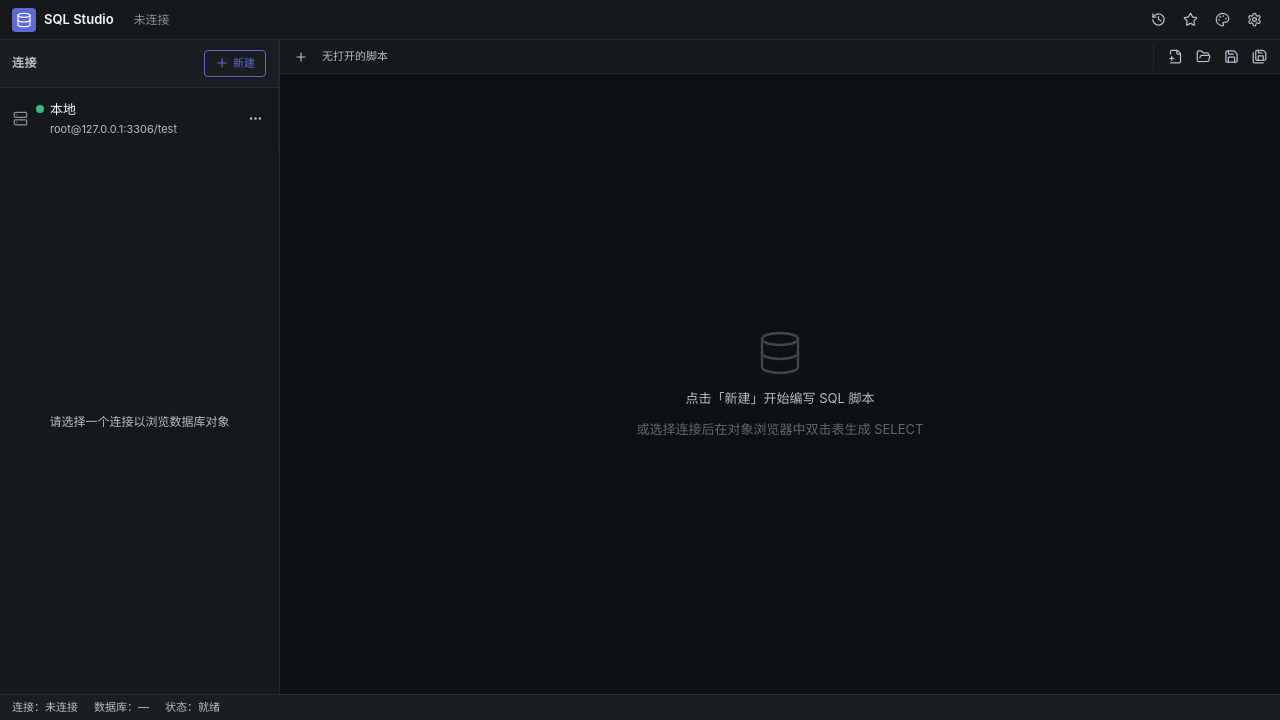
Test: App 工作台冒烟 › 渲染连接列表并选中后展示对象浏览器
This screenshot has width=1280, height=720.
Expected: the text "SQL Studio" is shown, [44, 10, 114, 29]
Expected: the text "root@127.0.0.1:3306/test" is shown, [50, 122, 177, 136]
What coordinates should you click on to do the following:
click the text "本地"
I would click on:
 (63, 108)
Its box is [50, 100, 76, 116].
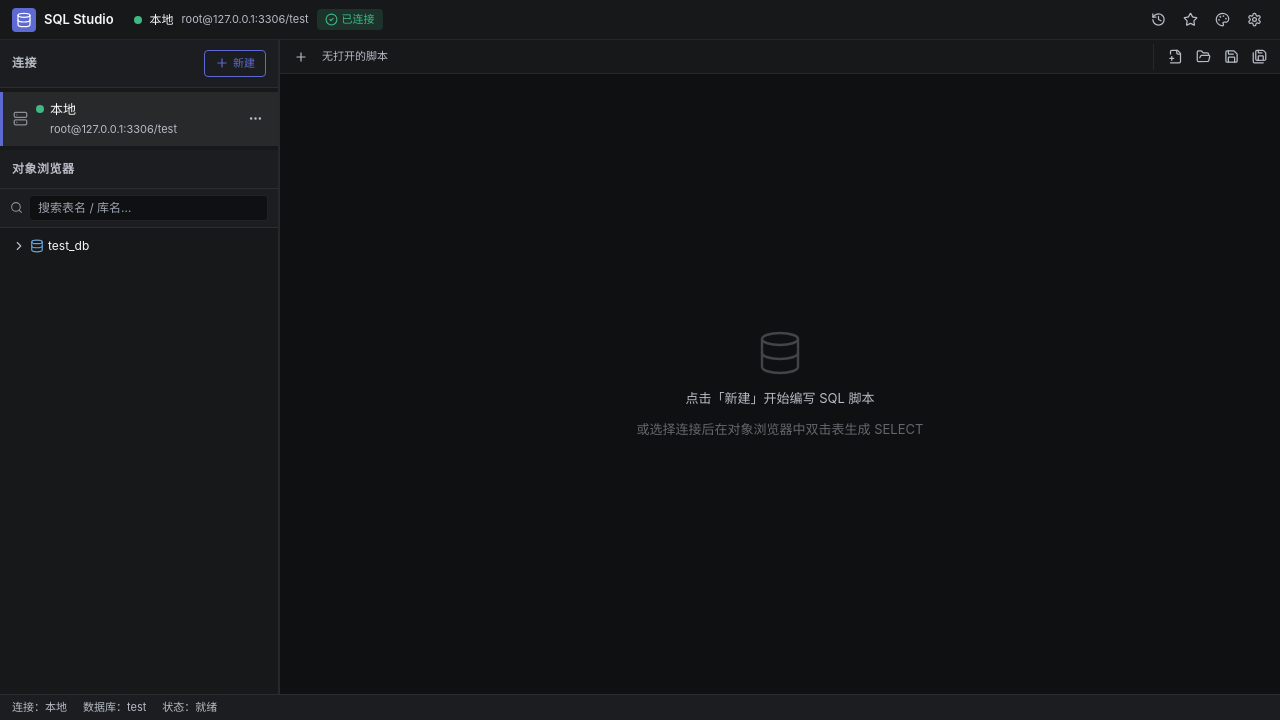
Now the heading "对象浏览器" is shown, box [12, 160, 74, 178]
What coordinates should you click on to do the following:
click the text "test_db"
I would click on:
 (69, 246)
Its box is [48, 236, 89, 254].
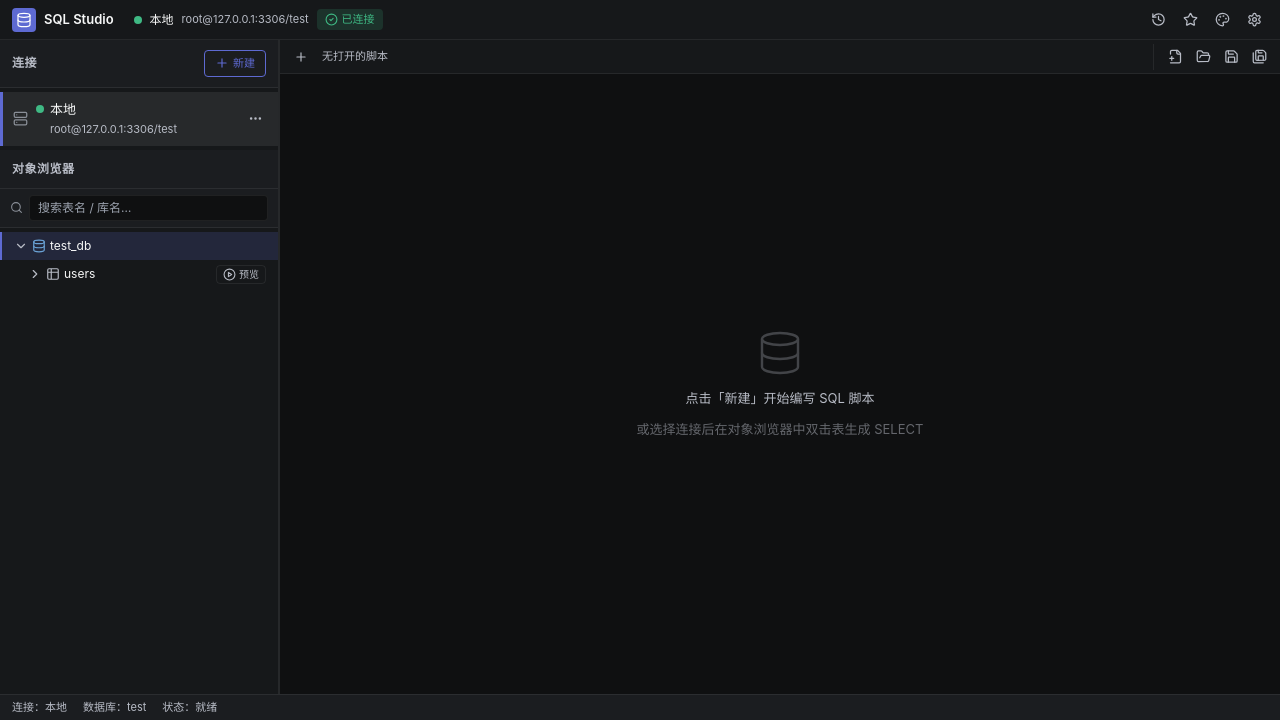
Now the text "users" is shown, box [64, 265, 95, 283]
